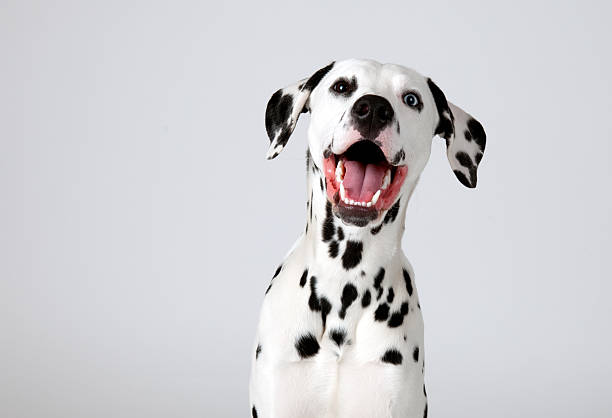dog: (202, 27, 552, 416)
